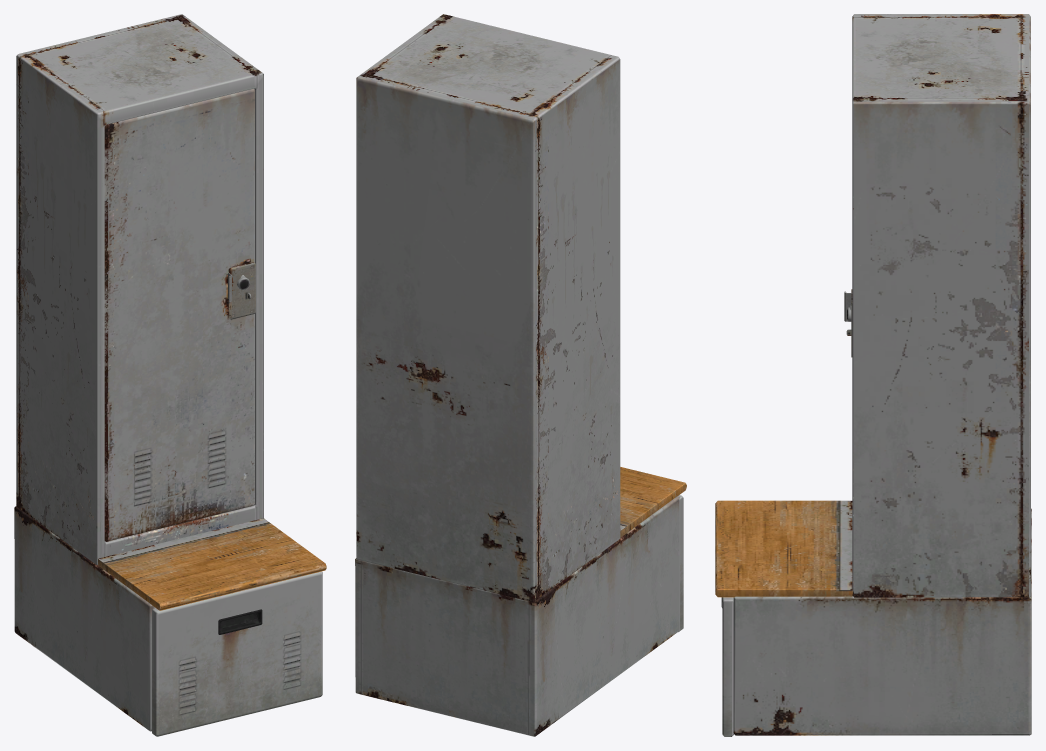
File: 010_WeaponLocker.fbx
3 renders of one model, left to right at view 1: azimuth 30°, elevation 25°; view 2: azimuth 150°, elevation 25°; view 3: azimuth 270°, elevation 25°, orthographic. The views are drawn at different scales.
Parts seen in each view (by area): view 1: LOD_1_Group_0_Sub_1__sm30_010_WeaponLocker01A_A_Mat, LOD_1_Group_1_Sub_1__sm30_010_WeaponLocker01A_A_Mat, LOD_1_Group_2_Sub_1__sm30_010_WeaponLocker01A_A_Mat; view 2: LOD_1_Group_0_Sub_1__sm30_010_WeaponLocker01A_A_Mat, LOD_1_Group_2_Sub_1__sm30_010_WeaponLocker01A_A_Mat; view 3: LOD_1_Group_0_Sub_1__sm30_010_WeaponLocker01A_A_Mat, LOD_1_Group_2_Sub_1__sm30_010_WeaponLocker01A_A_Mat.
Part boxes in pixels (bbox=[...]): LOD_1_Group_0_Sub_1__sm30_010_WeaponLocker01A_A_Mat: bbox=[14, 14, 326, 731]; LOD_1_Group_1_Sub_1__sm30_010_WeaponLocker01A_A_Mat: bbox=[104, 89, 255, 541]; LOD_1_Group_2_Sub_1__sm30_010_WeaponLocker01A_A_Mat: bbox=[152, 571, 322, 736]; LOD_1_Group_0_Sub_1__sm30_010_WeaponLocker01A_A_Mat: bbox=[355, 14, 686, 736]; LOD_1_Group_2_Sub_1__sm30_010_WeaponLocker01A_A_Mat: bbox=[678, 495, 683, 632]; LOD_1_Group_0_Sub_1__sm30_010_WeaponLocker01A_A_Mat: bbox=[715, 14, 1031, 735]; LOD_1_Group_2_Sub_1__sm30_010_WeaponLocker01A_A_Mat: bbox=[721, 597, 733, 736].
Bounding box in the file's own units: 0.637 × 2.08 × 0.9388.
